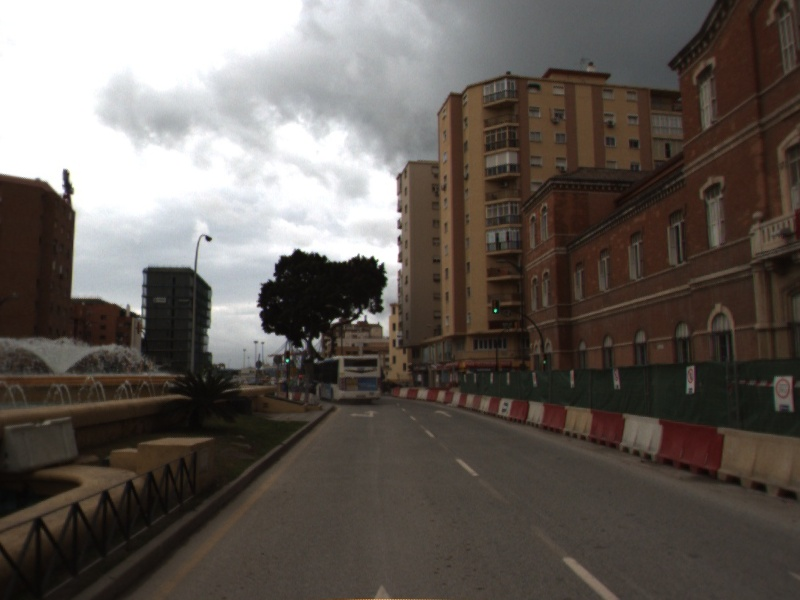STRAIGHT: (432, 408, 454, 419)
STRAIGHT_LEFT: (347, 409, 381, 419)
